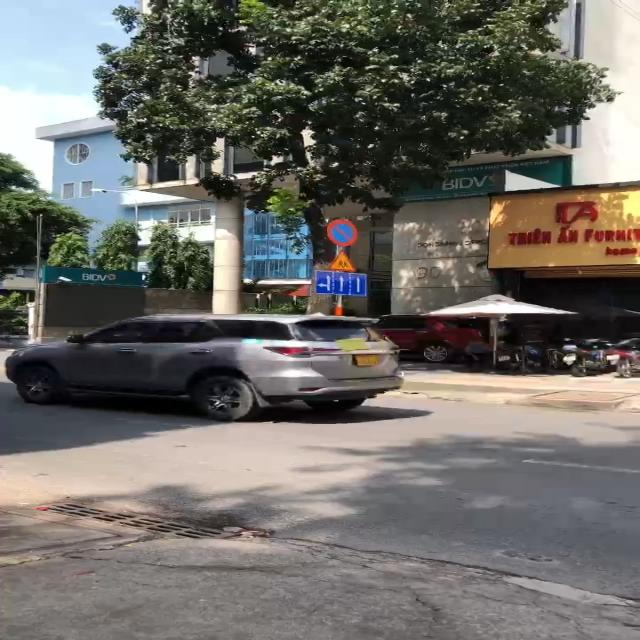Bien bao tre em: (326, 246, 364, 274)
